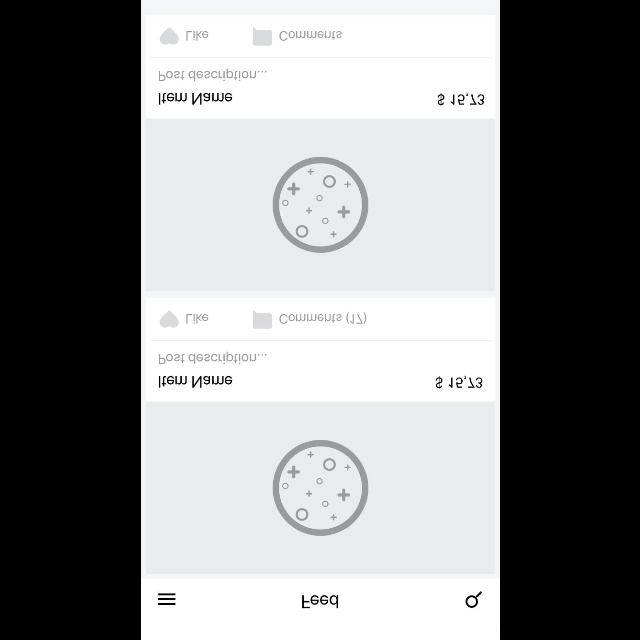icon: (252, 309, 272, 329), (252, 27, 272, 46), (160, 310, 178, 328), (466, 590, 482, 608), (160, 28, 178, 44), (157, 593, 175, 605)
image: (145, 401, 495, 573), (147, 119, 496, 291)
text: (158, 68, 266, 82), (158, 352, 266, 364), (279, 312, 366, 324), (158, 376, 232, 388), (158, 92, 232, 104), (279, 30, 341, 42), (436, 375, 482, 389), (438, 92, 484, 106), (302, 594, 338, 608), (186, 314, 208, 324), (186, 31, 208, 41)
